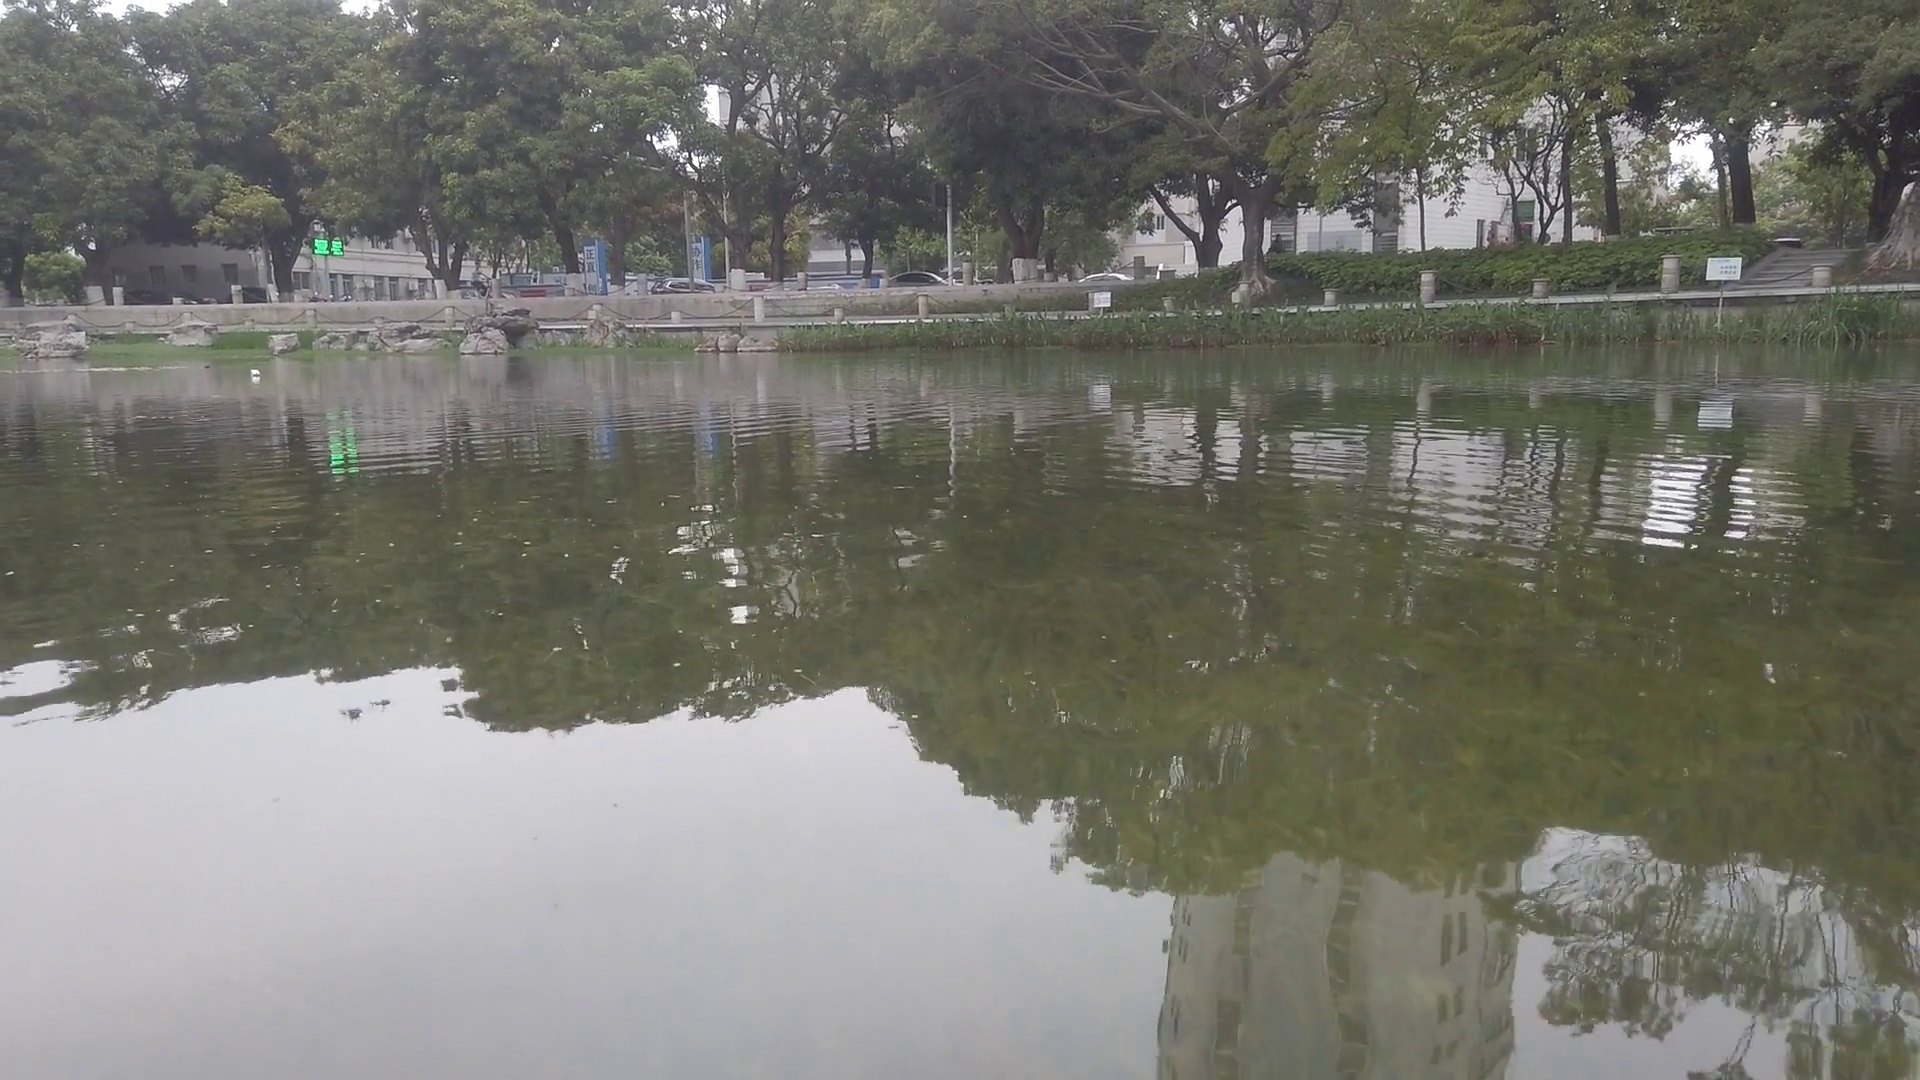carton: (251, 367, 262, 377)
